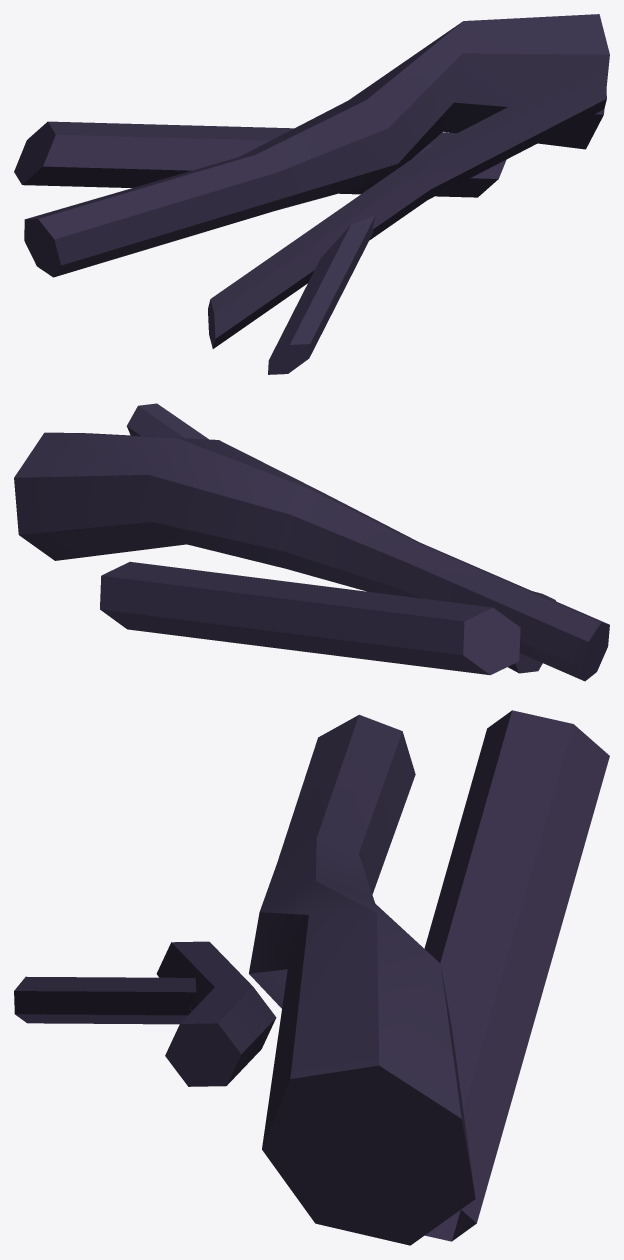
Rendered from Wood.fbx.
3 views of the same model, one above another, from view 1: azimuth 30°, elevation 25°; view 2: azimuth 150°, elevation 25°; view 3: azimuth 270°, elevation 25° (orthographic). The views are drawn at different scales.
Parts seen in each view (by area): view 1: polySurface346; view 2: polySurface346; view 3: polySurface346.
Part boxes in pixels (left/top/right/bottom): polySurface346: left=14, top=14, right=609, bottom=374; polySurface346: left=14, top=403, right=609, bottom=681; polySurface346: left=14, top=710, right=609, bottom=1245.
Size of the model in its own units: 1.72 by 0.5957 by 0.9464.
